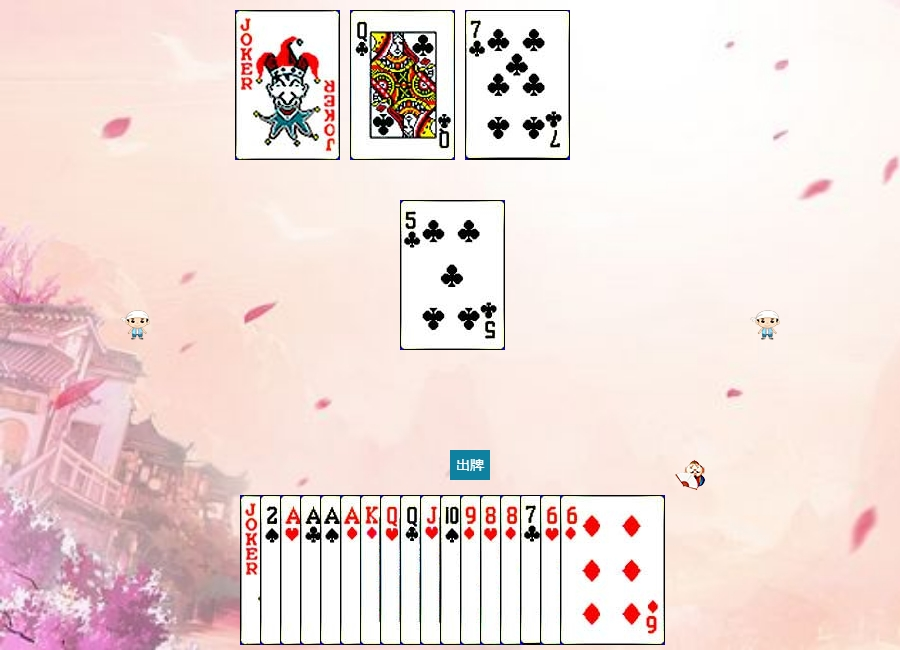10~4: (440, 495, 545, 645)
11~3: (420, 495, 525, 645)
12~2: (350, 10, 455, 160), (400, 495, 505, 645)
12~3: (380, 495, 485, 645)
13~1: (360, 495, 465, 645)
14~1: (340, 495, 445, 645)
14~2: (300, 495, 405, 645)
14~3: (280, 495, 385, 645)
14~4: (320, 495, 425, 645)
15~4: (260, 495, 365, 645)
18~4: (235, 10, 340, 160), (240, 495, 345, 645)
5~2: (400, 200, 505, 350)
6~1: (560, 495, 665, 645)
6~3: (540, 495, 645, 645)
7~2: (465, 10, 570, 160), (520, 495, 625, 645)
8~1: (500, 495, 605, 645)
8~3: (480, 495, 585, 645)
9~1: (460, 495, 565, 645)
